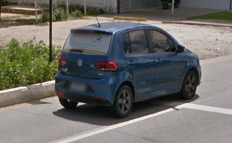car: (54, 19, 205, 123)
